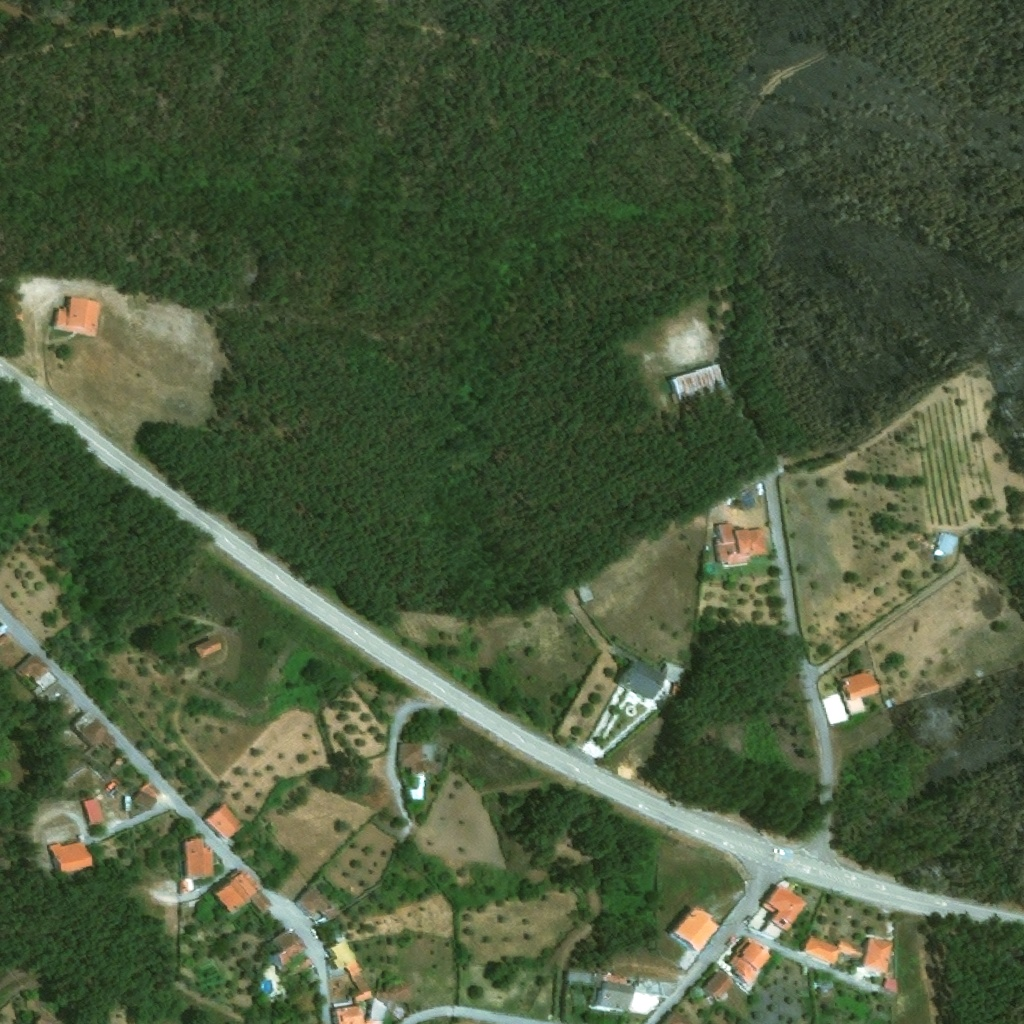0 no-damage: (323, 936, 374, 1003), (713, 523, 767, 566), (762, 886, 808, 931), (672, 364, 727, 399), (675, 909, 719, 952), (52, 297, 100, 334), (214, 872, 258, 912), (621, 663, 666, 701), (842, 670, 879, 715), (396, 743, 440, 780), (204, 804, 244, 841), (49, 841, 95, 873), (296, 887, 338, 921), (33, 671, 70, 709), (185, 837, 214, 880), (80, 719, 119, 749), (595, 982, 635, 1011), (273, 932, 304, 968), (735, 941, 772, 971), (803, 936, 839, 965), (862, 938, 894, 970), (727, 954, 758, 985), (932, 530, 960, 563), (821, 693, 848, 726), (15, 655, 49, 681), (705, 972, 731, 997), (334, 1005, 367, 1023), (368, 997, 389, 1023), (250, 889, 272, 913), (567, 973, 602, 988), (195, 639, 221, 658), (838, 941, 865, 958), (83, 799, 102, 823), (660, 1011, 695, 1023), (135, 792, 157, 810), (139, 782, 160, 800), (667, 664, 682, 681), (106, 781, 116, 791), (884, 699, 892, 708)
4 un-classified: (0, 614, 8, 643)
